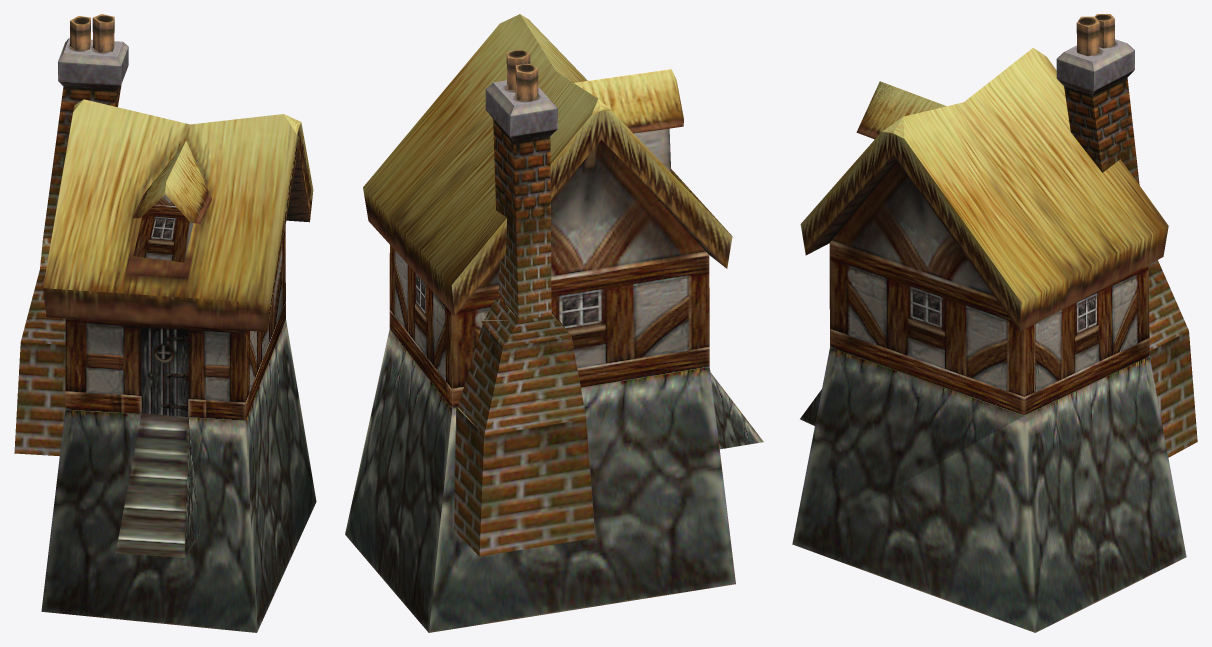
File: war3farm.obj
3 views of the same model, side by side, from view 1: azimuth 30°, elevation 25°; view 2: azimuth 150°, elevation 25°; view 3: azimuth 270°, elevation 25° (orthographic). The views are drawn at different scales.
Parts seen in each view (by area): view 1: Mesh02, Mesh03; view 2: Mesh02, Mesh03; view 3: Mesh02, Mesh03.
Boxes of the visible parts, x1,y1,x2,y2 form: Mesh02: (14,14,316,632); Mesh03: (58,47,189,417); Mesh02: (345,14,763,632); Mesh03: (485,89,557,136); Mesh02: (792,14,1197,632); Mesh03: (1056,50,1134,90).
Size of the model in its own units: 153 by 234 by 165.
